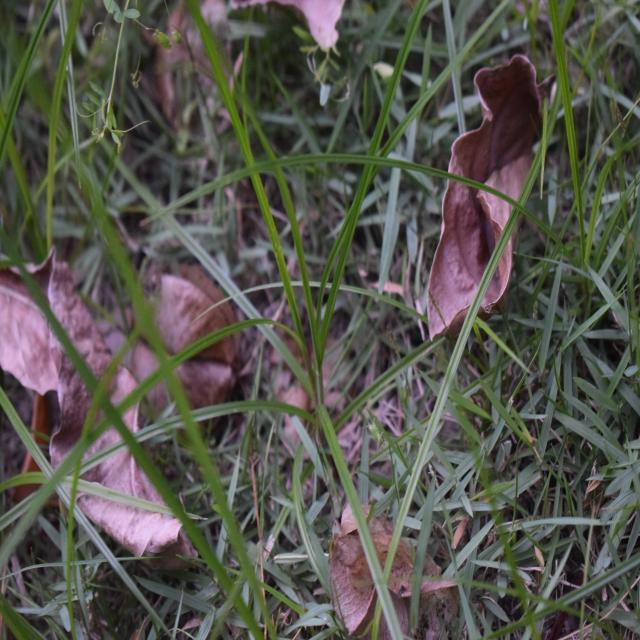sedge: (73, 76, 473, 547)
